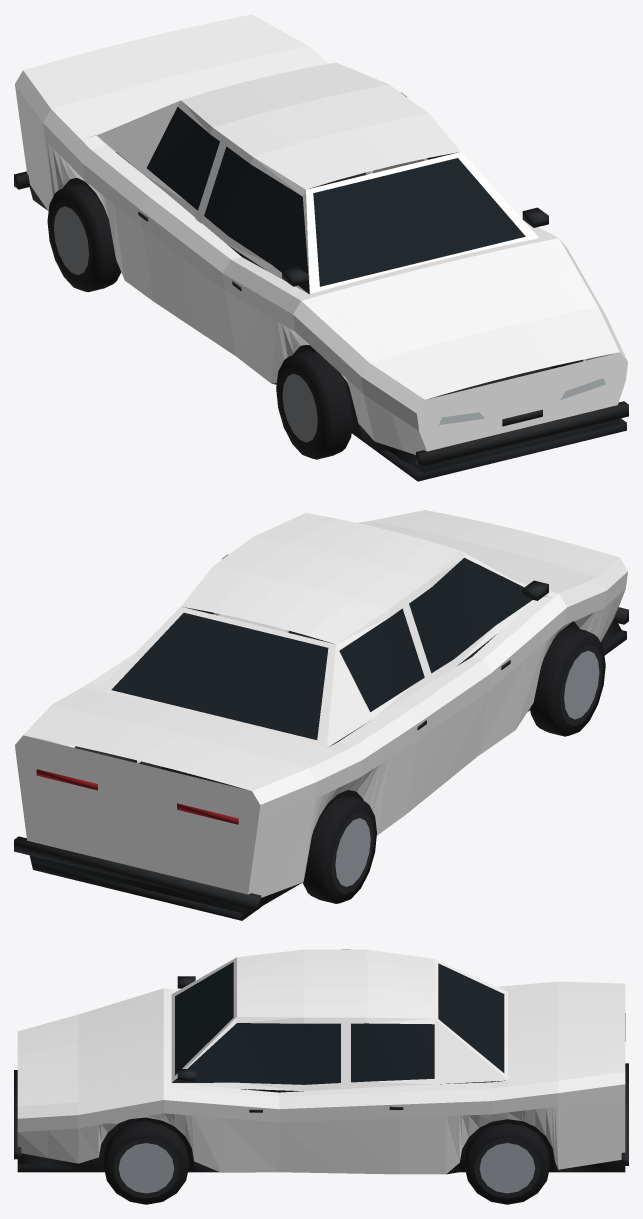
File: saulieu_alto.glb
3 views of the same model, one above another, from view 1: azimuth 30°, elevation 25°; view 2: azimuth 150°, elevation 25°; view 3: azimuth 270°, elevation 25° (orthographic). The views are drawn at different scales.
Visible parts, largest first — view 1: Body_Paint, Body_Details, Mount_FrontLeft_Wheel_Details, Mount_RearLeft_Wheel_Details; view 2: Body_Paint, Body_Details, Mount_FrontLeft_Wheel_Details, Mount_RearLeft_Wheel_Details; view 3: Body_Paint, Body_Details, Mount_FrontRight_Wheel_Details, Mount_RearRight_Wheel_Details.
Part boxes in pixels (x1=…): Body_Paint: x1=15, y1=14, x2=627, y2=454; Body_Details: x1=14, y1=107, x2=628, y2=481; Mount_FrontLeft_Wheel_Details: x1=276, y1=350, x2=352, y2=459; Mount_RearLeft_Wheel_Details: x1=47, y1=183, x2=121, y2=292; Body_Paint: x1=15, y1=510, x2=627, y2=897; Body_Details: x1=14, y1=558, x2=628, y2=920; Mount_FrontLeft_Wheel_Details: x1=530, y1=626, x2=605, y2=736; Mount_RearLeft_Wheel_Details: x1=303, y1=795, x2=376, y2=903; Body_Paint: x1=17, y1=949, x2=625, y2=1174; Body_Details: x1=14, y1=962, x2=628, y2=1174; Mount_FrontRight_Wheel_Details: x1=103, y1=1121, x2=189, y2=1204; Mount_RearRight_Wheel_Details: x1=464, y1=1123, x2=550, y2=1204.
Bounding box in the file's own units: 1.88 × 1.39 × 4.51.
Materials: 2 (1 with a texture image).
